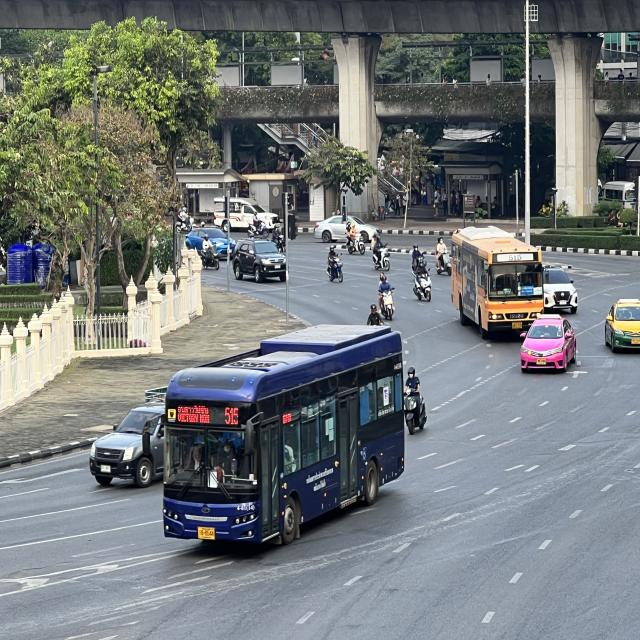BMTA-bus: (439, 226, 544, 343)
Bus Line Number: (222, 401, 240, 427), (507, 254, 523, 260)
Bus Side Number: (236, 502, 256, 512), (527, 320, 533, 327)
Destination Sign: (174, 402, 213, 426), (522, 286, 533, 295)
TSB-Bus: (161, 325, 423, 550)
